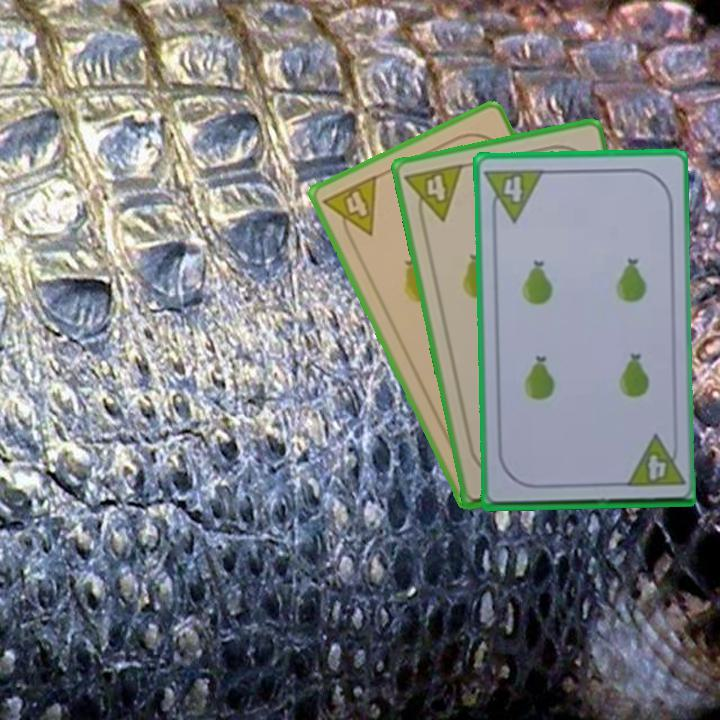4p: (319, 171, 380, 247), (401, 160, 466, 228), (481, 165, 546, 225), (620, 432, 686, 490)
